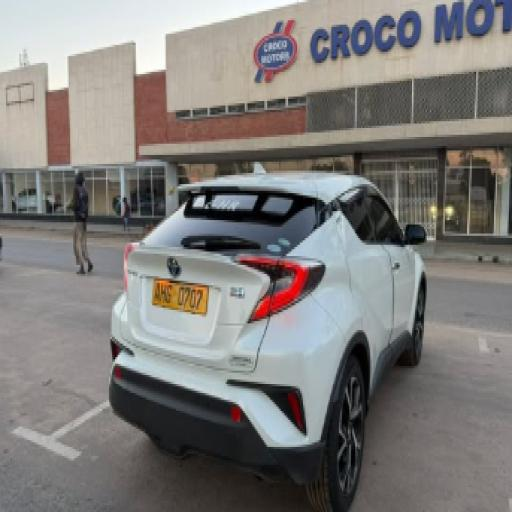number-plates: (152, 274, 209, 314)
